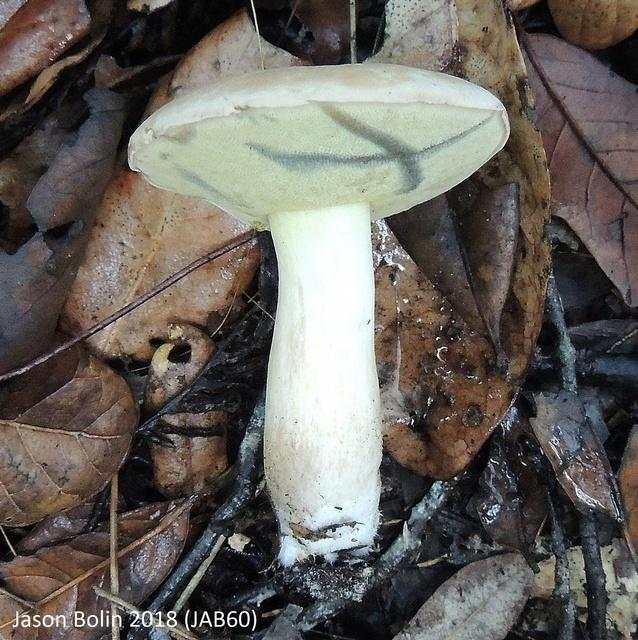Edible Mushroom: (125, 59, 511, 567)
